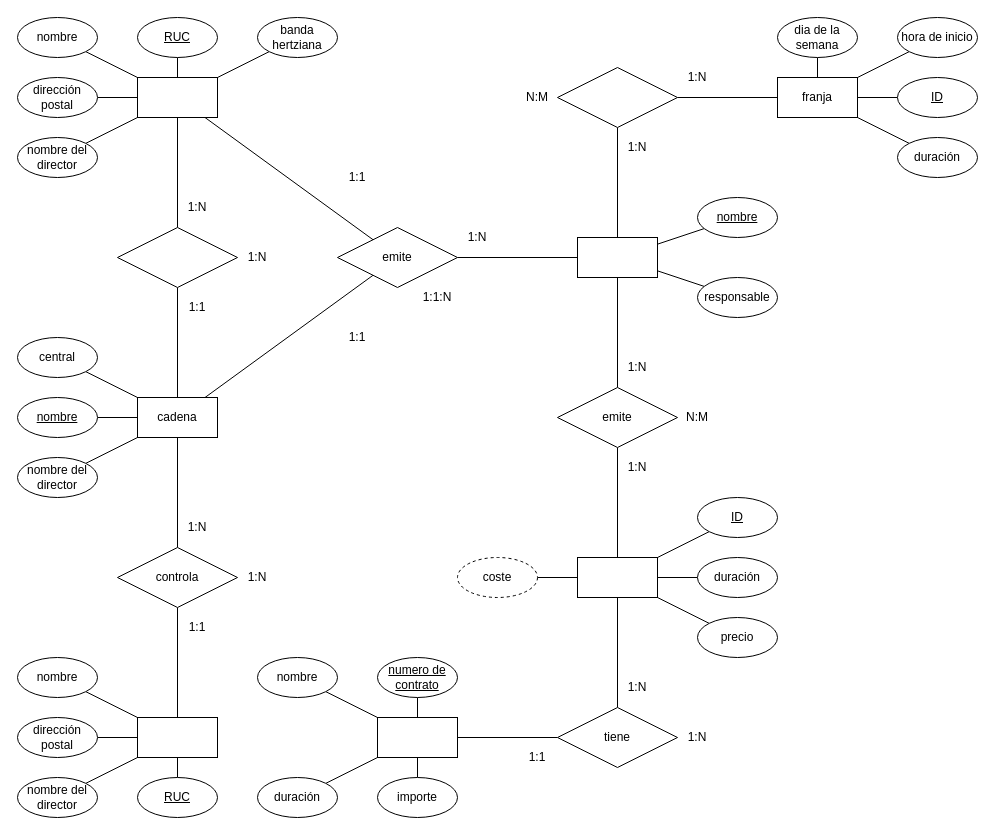
This 995x835 diagram has some shape labels left out. Each missing label, with the centre of its shape:
"asociar" belongs at (177,257).
"emisora" belongs at (177,97).
"emite en" belongs at (617,97).
"empresa de medios de comunicación" belongs at (177,737).
"patrocinador" belongs at (417,737).
"programa" belongs at (617,257).
"publicidad" belongs at (617,577).
